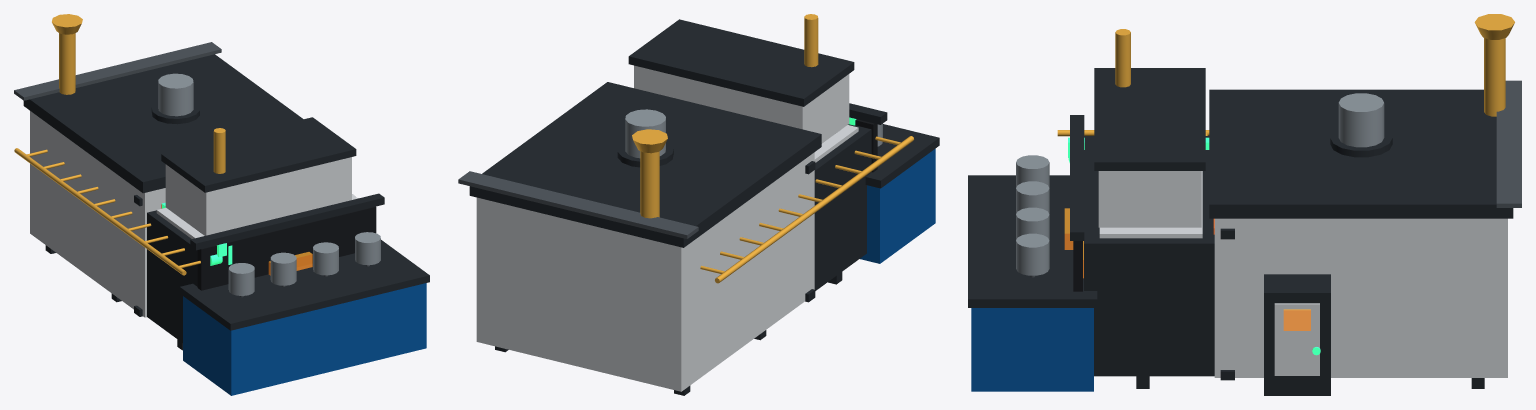
The model's file is box_atmosphere_furnace.glb.
The picture shows the model from 3 angles, left to right: view 1: azimuth 30°, elevation 25°; view 2: azimuth 150°, elevation 25°; view 3: azimuth 270°, elevation 25°; orthographic projection. The views are drawn at different scales.
Visible parts, largest first — view 1: merged_dark_heat_resistant_panel, merged_warm_light_gray_shell, merged_industrial_blue_quench_tank, merged_black_lift_door, merged_brushed_steel_motor, merged_safety_yellow_gas_pipe, merged_dark_steel_rail, merged_active_green_components; view 2: merged_warm_light_gray_shell, merged_dark_heat_resistant_panel, merged_safety_yellow_gas_pipe, merged_industrial_blue_quench_tank, merged_dark_steel_rail, merged_brushed_steel_motor; view 3: merged_dark_heat_resistant_panel, merged_warm_light_gray_shell, merged_industrial_blue_quench_tank, merged_brushed_steel_motor, merged_safety_yellow_gas_pipe, merged_dark_steel_rail, merged_amber_observation_glass, merged_black_lift_door.
Boxes of the visible parts, box(x1,y1,x2,y2) form: merged_dark_heat_resistant_panel: box(23, 54, 429, 350); merged_warm_light_gray_shell: box(30, 111, 357, 317); merged_industrial_blue_quench_tank: box(183, 283, 426, 395); merged_black_lift_door: box(197, 206, 376, 290); merged_brushed_steel_motor: box(158, 73, 380, 295); merged_safety_yellow_gas_pipe: box(14, 14, 225, 275); merged_dark_steel_rail: box(14, 42, 369, 297); merged_active_green_components: box(161, 202, 232, 265); merged_warm_light_gray_shell: box(476, 65, 858, 391); merged_dark_heat_resistant_panel: box(469, 19, 939, 395); merged_safety_yellow_gas_pipe: box(632, 14, 913, 283); merged_industrial_blue_quench_tank: box(860, 148, 935, 263); merged_dark_steel_rail: box(458, 171, 698, 238); merged_brushed_steel_motor: box(625, 109, 882, 158); merged_dark_heat_resistant_panel: box(968, 68, 1513, 395); merged_warm_light_gray_shell: box(1098, 171, 1507, 377); merged_industrial_blue_quench_tank: box(971, 308, 1093, 391); merged_brushed_steel_motor: box(1016, 93, 1384, 275); merged_safety_yellow_gas_pipe: box(1057, 14, 1514, 136); merged_dark_steel_rail: box(1030, 80, 1521, 277); merged_amber_observation_glass: box(1064, 208, 1310, 330); merged_black_lift_door: box(1073, 241, 1082, 291).
Size of the model in its own units: 5.82 by 5.18 by 9.25.
